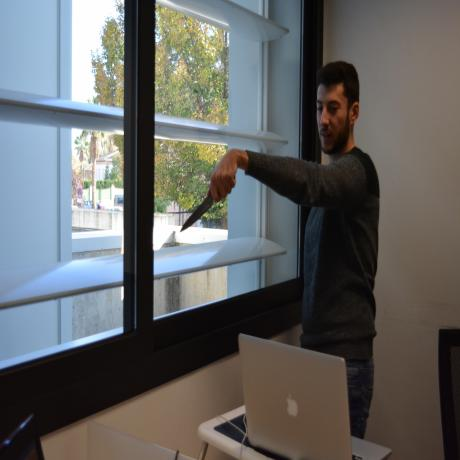1: (211, 55, 381, 442)
weapon: (178, 186, 216, 232)
